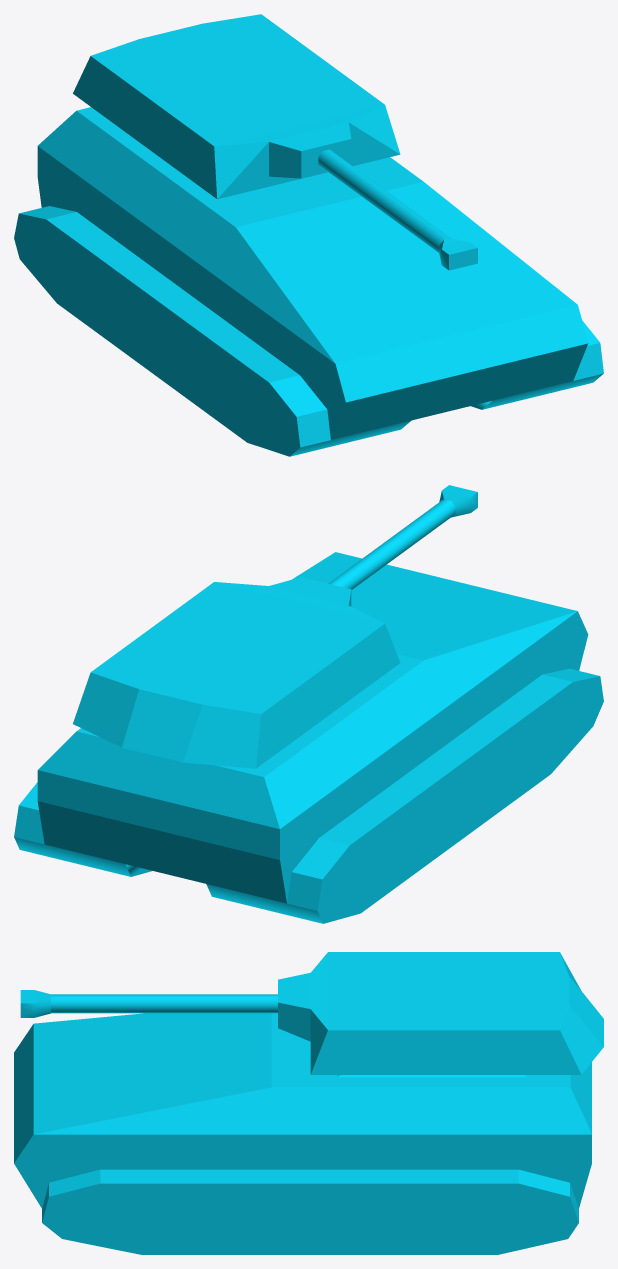
File: TankMesh.fbx
3 renders of one model, top to bottom at view 1: azimuth 30°, elevation 25°; view 2: azimuth 150°, elevation 25°; view 3: azimuth 270°, elevation 25°, orthographic. The views are drawn at different scales.
Parts seen in each view (by area): view 1: TankMesh; view 2: TankMesh; view 3: TankMesh.
Boxes of the visible parts, x1,y1,x2,y2 form: TankMesh: (14, 14, 603, 456); TankMesh: (14, 485, 603, 923); TankMesh: (14, 952, 603, 1254).
Bounding box in the file's own units: 1.42 × 0.9254 × 2.54.
